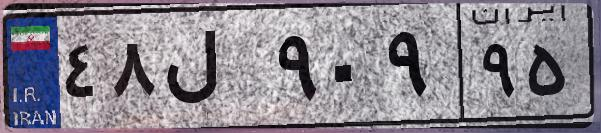0: (330, 28, 385, 110)
4: (57, 26, 110, 100)
5: (525, 38, 570, 115)
8: (110, 28, 158, 98)
9: (270, 28, 330, 110), (385, 28, 445, 110), (475, 38, 525, 113)
ل: (158, 20, 270, 120)
